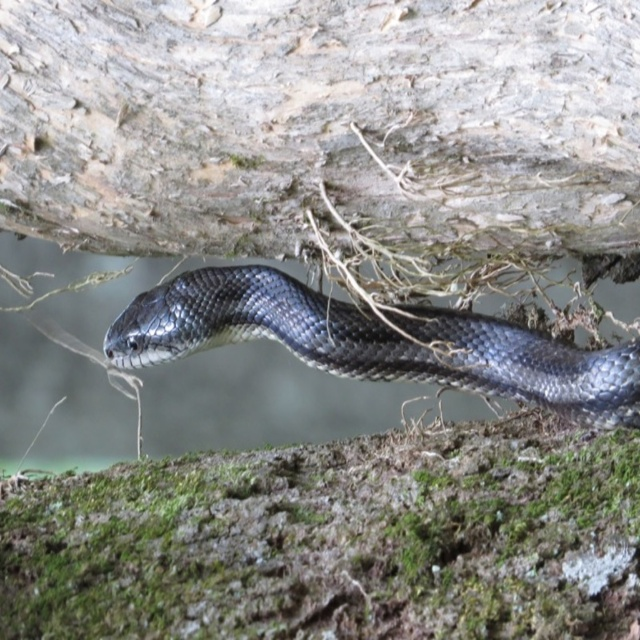Snake: (104, 263, 639, 431)
